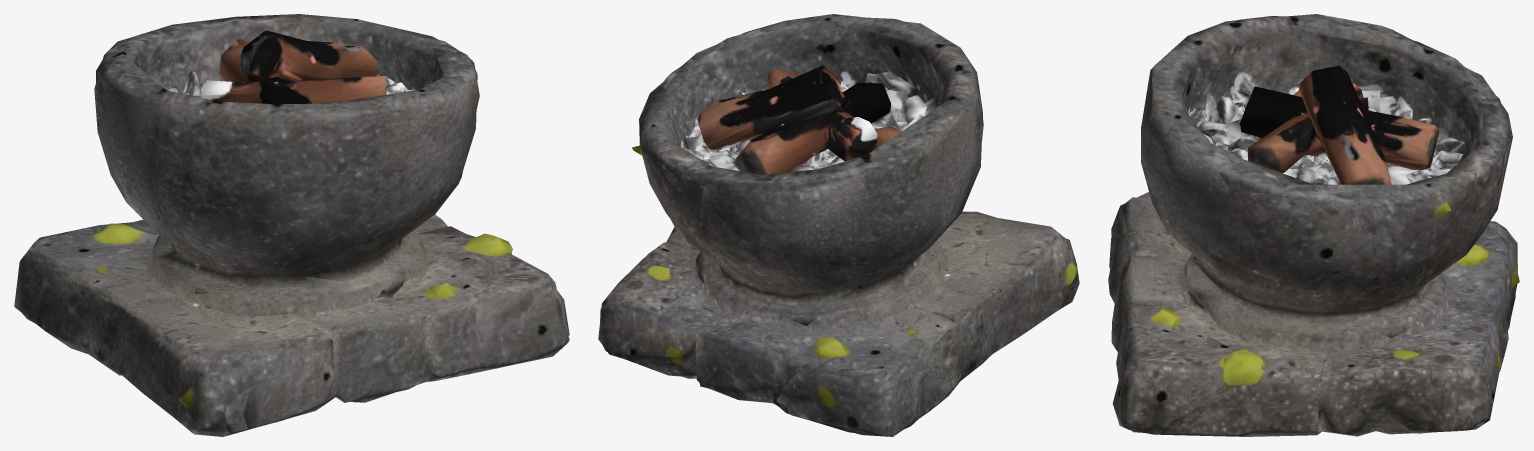
File: cold-brazier.glb
3 renders of one model, left to right at view 1: azimuth 30°, elevation 25°; view 2: azimuth 150°, elevation 25°; view 3: azimuth 270°, elevation 25°, orthographic. The views are drawn at different scales.
Bounding box in the file's own units: 3 × 2.23 × 2.87.
1 material, 1 textured.
